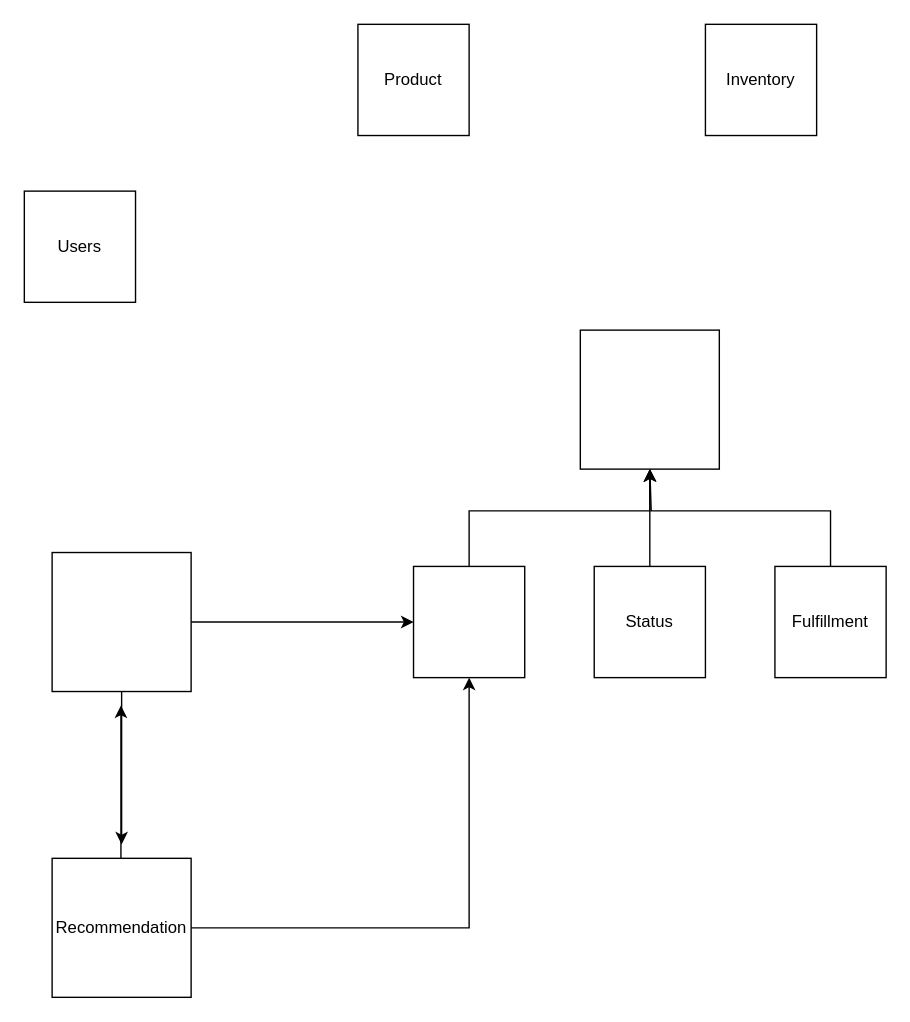
Some shapes in this 910 by 1022 pixel diagram are drawn without their labels. Here are the shapes that lost their labels. From the top down, the centre of each, then its label:
the point at 649,399: Order Managemement
the point at 121,621: Search
the point at 468,621: Placing
